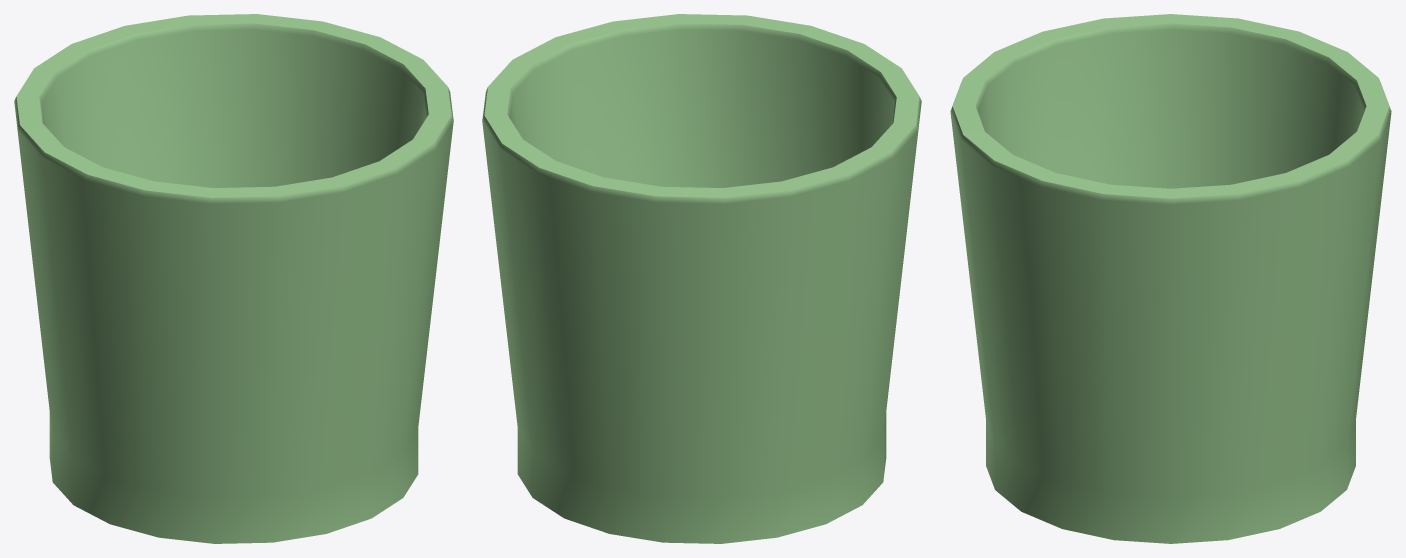
File: Glass01.fbx
3 renders of one model, left to right at view 1: azimuth 30°, elevation 25°; view 2: azimuth 150°, elevation 25°; view 3: azimuth 270°, elevation 25°, orthographic.
Parts seen in each view (by area): view 1: Glass01_Modelling_v001:Glass_Glass; view 2: Glass01_Modelling_v001:Glass_Glass; view 3: Glass01_Modelling_v001:Glass_Glass.
Boxes of the visible parts, x1,y1,x2,y2 form: Glass01_Modelling_v001:Glass_Glass: (14, 14, 453, 543); Glass01_Modelling_v001:Glass_Glass: (482, 14, 921, 543); Glass01_Modelling_v001:Glass_Glass: (950, 14, 1391, 543).
Size of the model in its own units: 9.47 by 8.52 by 9.47.
Materials: 1 (1 with a texture image).
